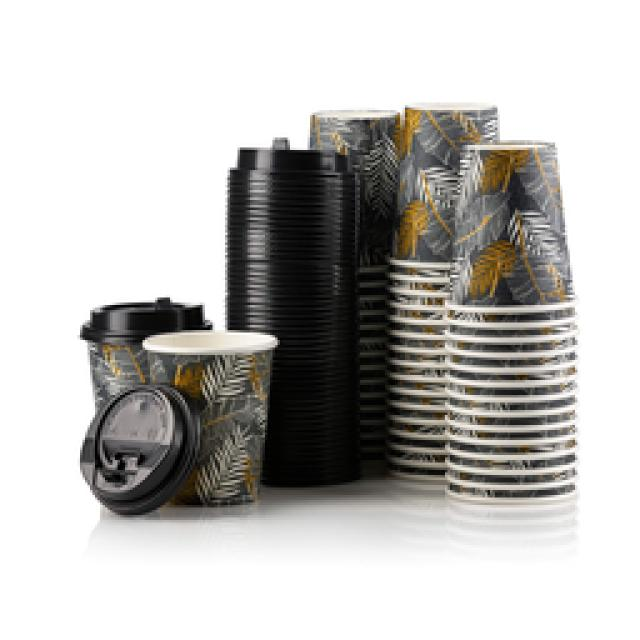paper_cups: (444, 139, 576, 366), (143, 327, 279, 508), (386, 100, 501, 298)
